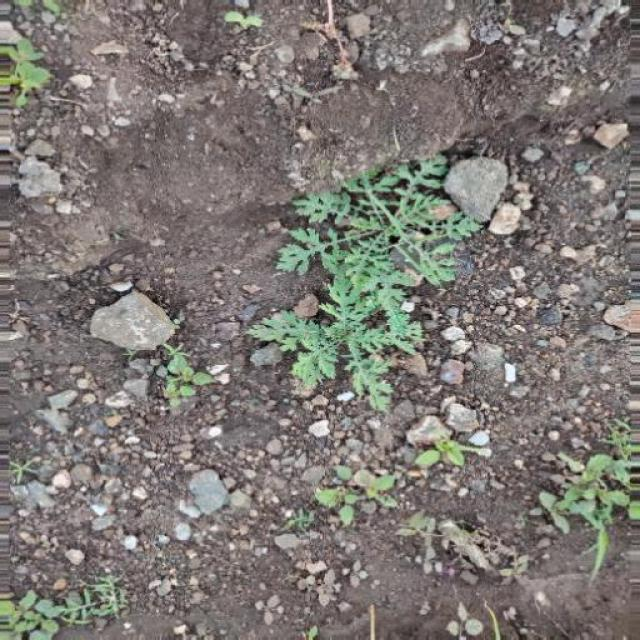weed: (250, 155, 480, 404), (1, 575, 125, 640)
